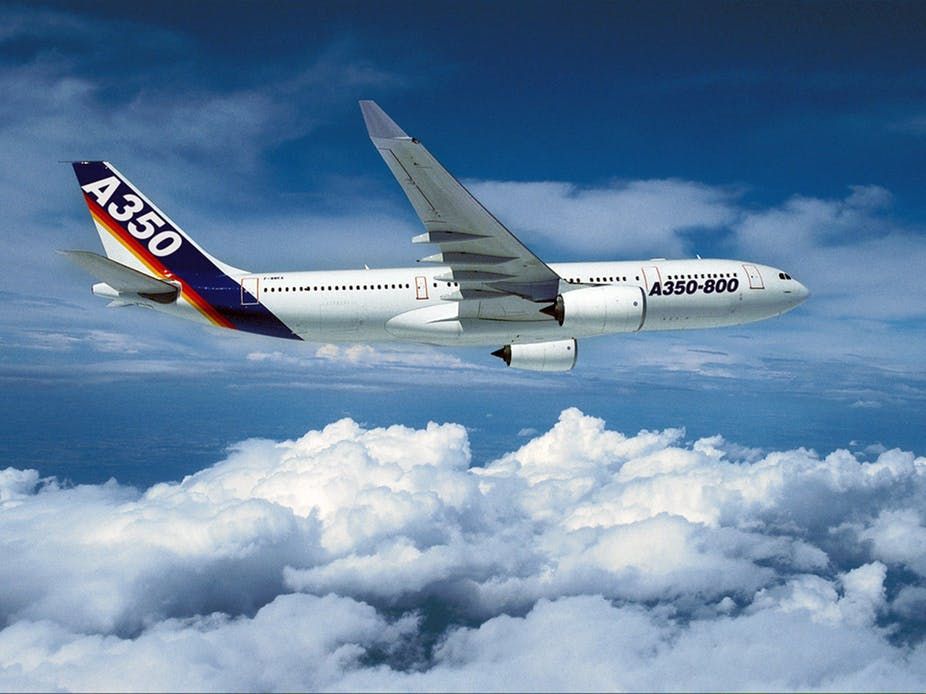aeroplane: (69, 107, 809, 396)
